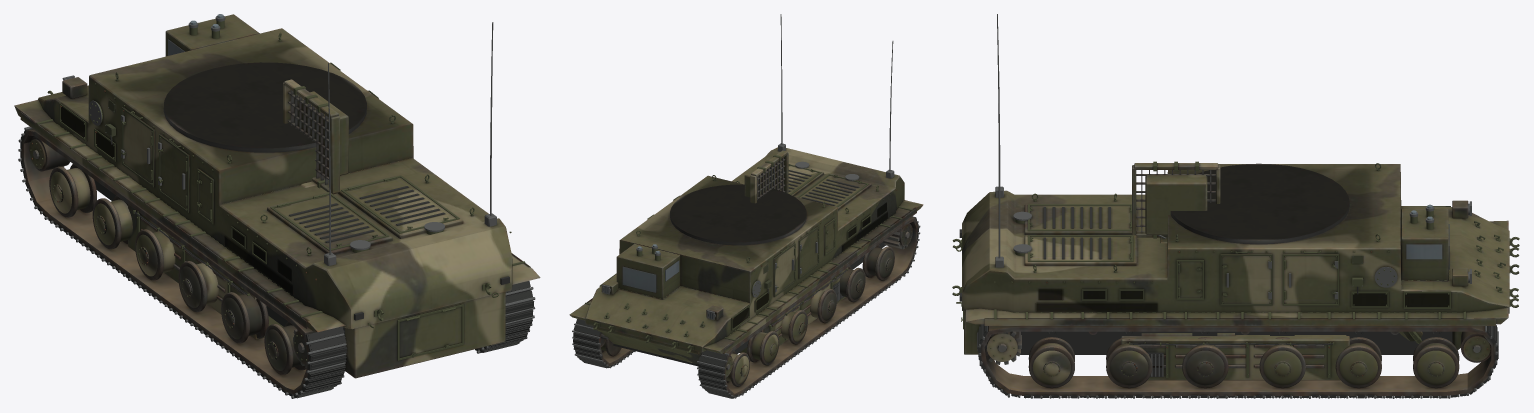
Rendered from tor.glb.
3 renders of one model, left to right at view 1: azimuth 30°, elevation 25°; view 2: azimuth 150°, elevation 25°; view 3: azimuth 270°, elevation 25°, orthographic. The views are drawn at different scales.
Visible parts, largest first — view 1: body|TOR_body, body|TOR_dark, body|TOR_steel, body|TOR_darkF, body|TOR_bodyF, body|TOR_steelF, radar|TOR_body, radar|TOR_steel, turret|TOR_body, body|TOR_body2; view 2: body|TOR_body, body|TOR_steel, body|TOR_dark, body|TOR_darkF, body|TOR_steelF, body|TOR_bodyF, radar|TOR_body, body|TOR_glass, body|TOR_body2, radar|TOR_steel, turret|TOR_body; view 3: body|TOR_body, body|TOR_dark, body|TOR_steel, body|TOR_darkF, turret|TOR_body, body|TOR_bodyF, radar|TOR_body, body|TOR_steelF, body|TOR_body2, turret|TOR_dark, body|TOR_glass, turret|TOR_darkF (+1 smaller).
Part boxes in pixels (x1,y1,x2,y2): body|TOR_body: [14, 14, 540, 378]; body|TOR_dark: [21, 129, 529, 394]; body|TOR_steel: [33, 62, 366, 368]; body|TOR_darkF: [20, 128, 534, 398]; body|TOR_bodyF: [30, 21, 525, 360]; body|TOR_steelF: [18, 16, 535, 398]; radar|TOR_body: [283, 79, 348, 194]; radar|TOR_steel: [288, 90, 328, 184]; turret|TOR_body: [128, 204, 283, 339]; body|TOR_body2: [52, 72, 429, 359]; body|TOR_body: [569, 147, 923, 383]; body|TOR_steel: [600, 184, 910, 369]; body|TOR_dark: [574, 212, 918, 396]; body|TOR_darkF: [573, 170, 919, 398]; body|TOR_steelF: [572, 14, 920, 398]; body|TOR_bodyF: [585, 163, 913, 376]; radar|TOR_body: [744, 150, 788, 203]; body|TOR_glass: [603, 260, 713, 318]; body|TOR_body2: [642, 175, 910, 373]; radar|TOR_steel: [757, 157, 785, 200]; turret|TOR_body: [739, 267, 848, 353]; body|TOR_body: [962, 164, 1509, 385]; body|TOR_dark: [981, 326, 1495, 395]; body|TOR_steel: [985, 163, 1481, 364]; body|TOR_darkF: [959, 207, 1498, 398]; turret|TOR_body: [1121, 333, 1349, 380]; body|TOR_bodyF: [952, 170, 1519, 376]; radar|TOR_body: [1132, 163, 1220, 243]; body|TOR_steelF: [978, 14, 1497, 398]; body|TOR_body2: [961, 163, 1519, 376]; turret|TOR_dark: [1137, 345, 1324, 367]; body|TOR_glass: [1406, 224, 1449, 269]; turret|TOR_darkF: [1130, 343, 1332, 376].
Size of the model in its own units: 3.8 by 5.35 by 9.18.
Materials: 62 (21 with a texture image).
